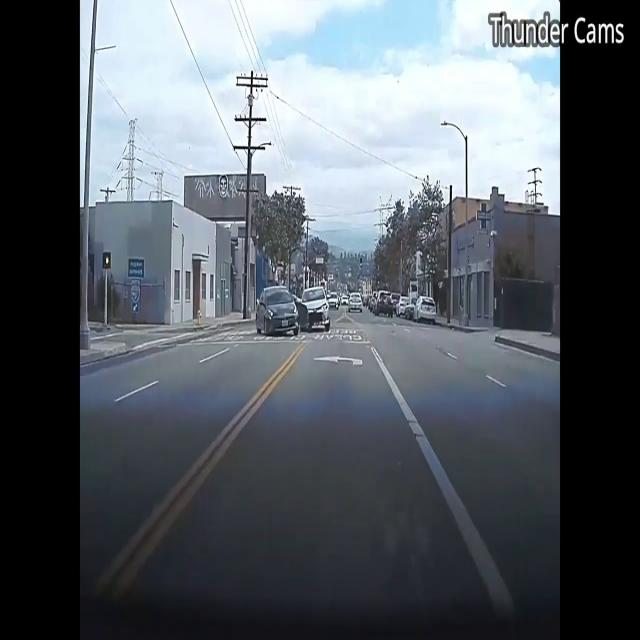accident: (257, 280, 336, 350)
